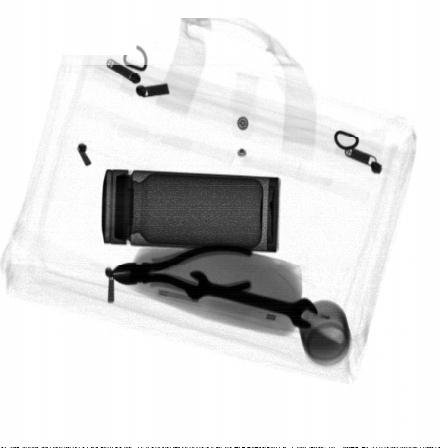Pliers: (109, 241, 255, 300)
Wrench: (187, 269, 318, 330)
